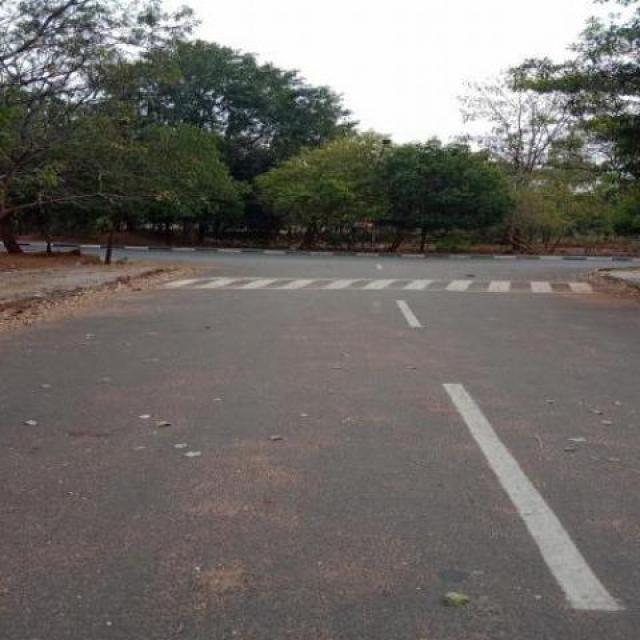Speed Bump: (137, 278, 616, 292)
